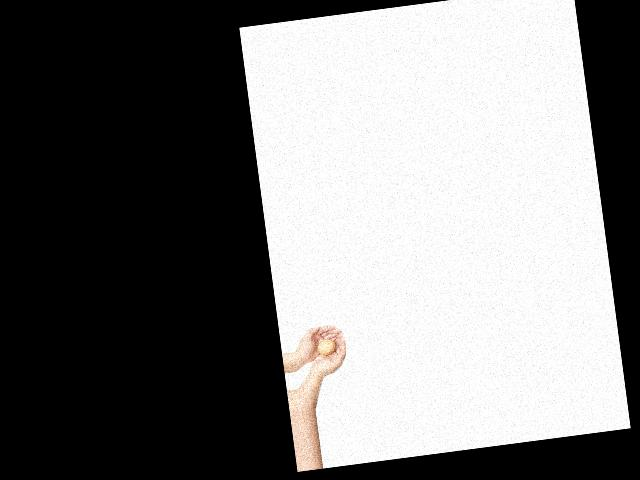egg: (316, 339, 335, 356)
